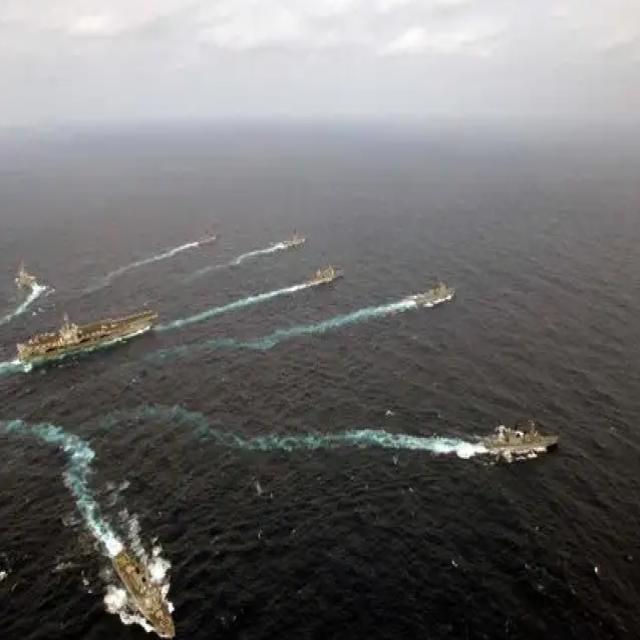navalvessels: (11, 300, 159, 372), (100, 531, 182, 640), (462, 416, 558, 464), (416, 272, 465, 313), (304, 255, 340, 283)
